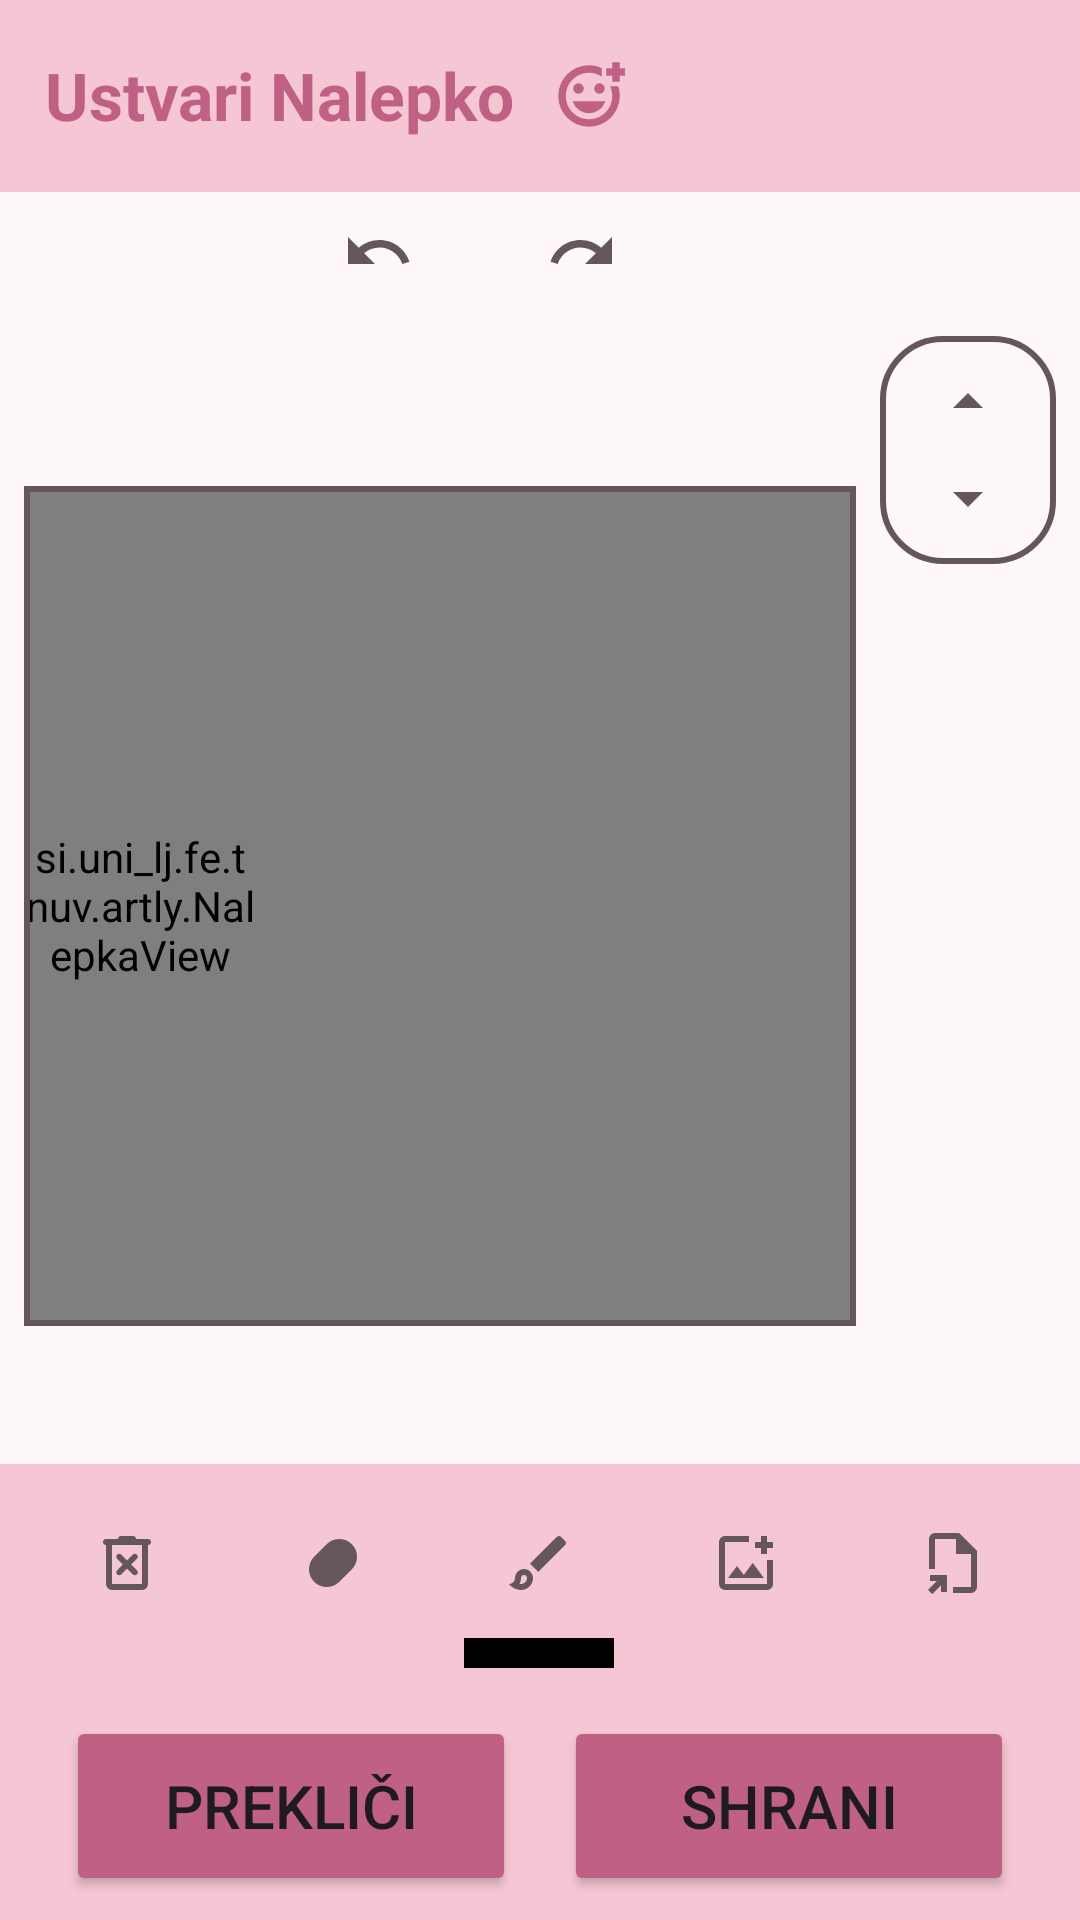

Point at icon controls on the screen. Image size 1080x1920, points as [x,y].
add picture: [746,1563]
delete: [127,1563]
eraser: [333,1563]
export: [952,1563]
